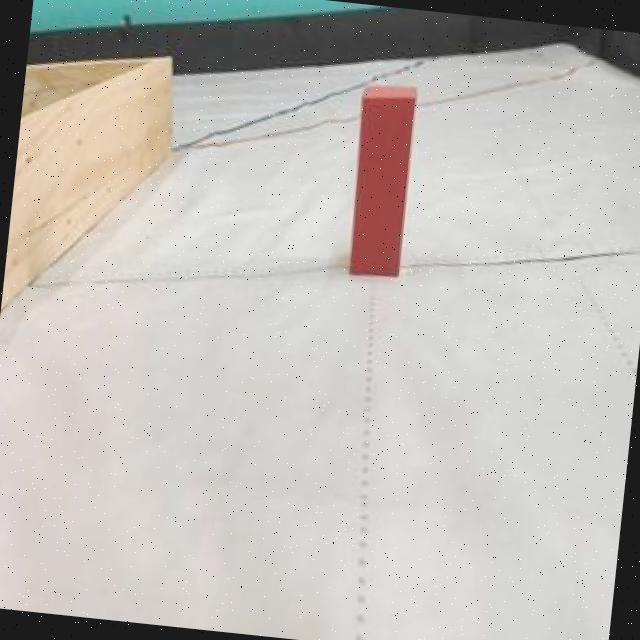redbox: (342, 78, 423, 283)
